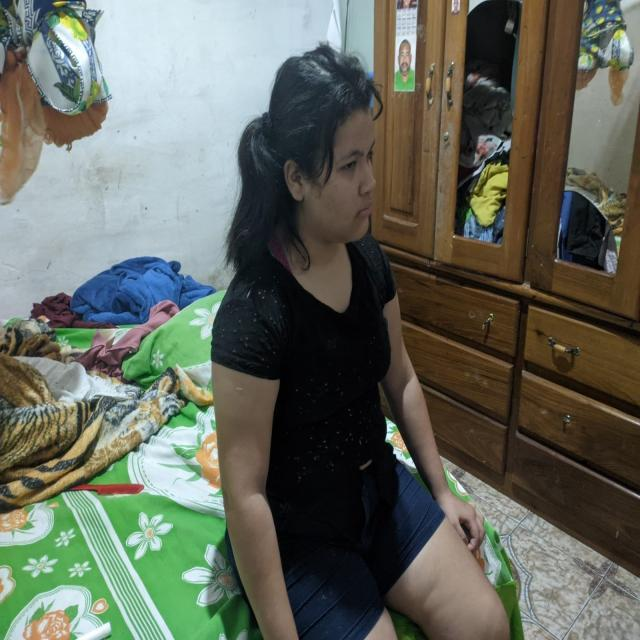sentado: (212, 47, 512, 639)
